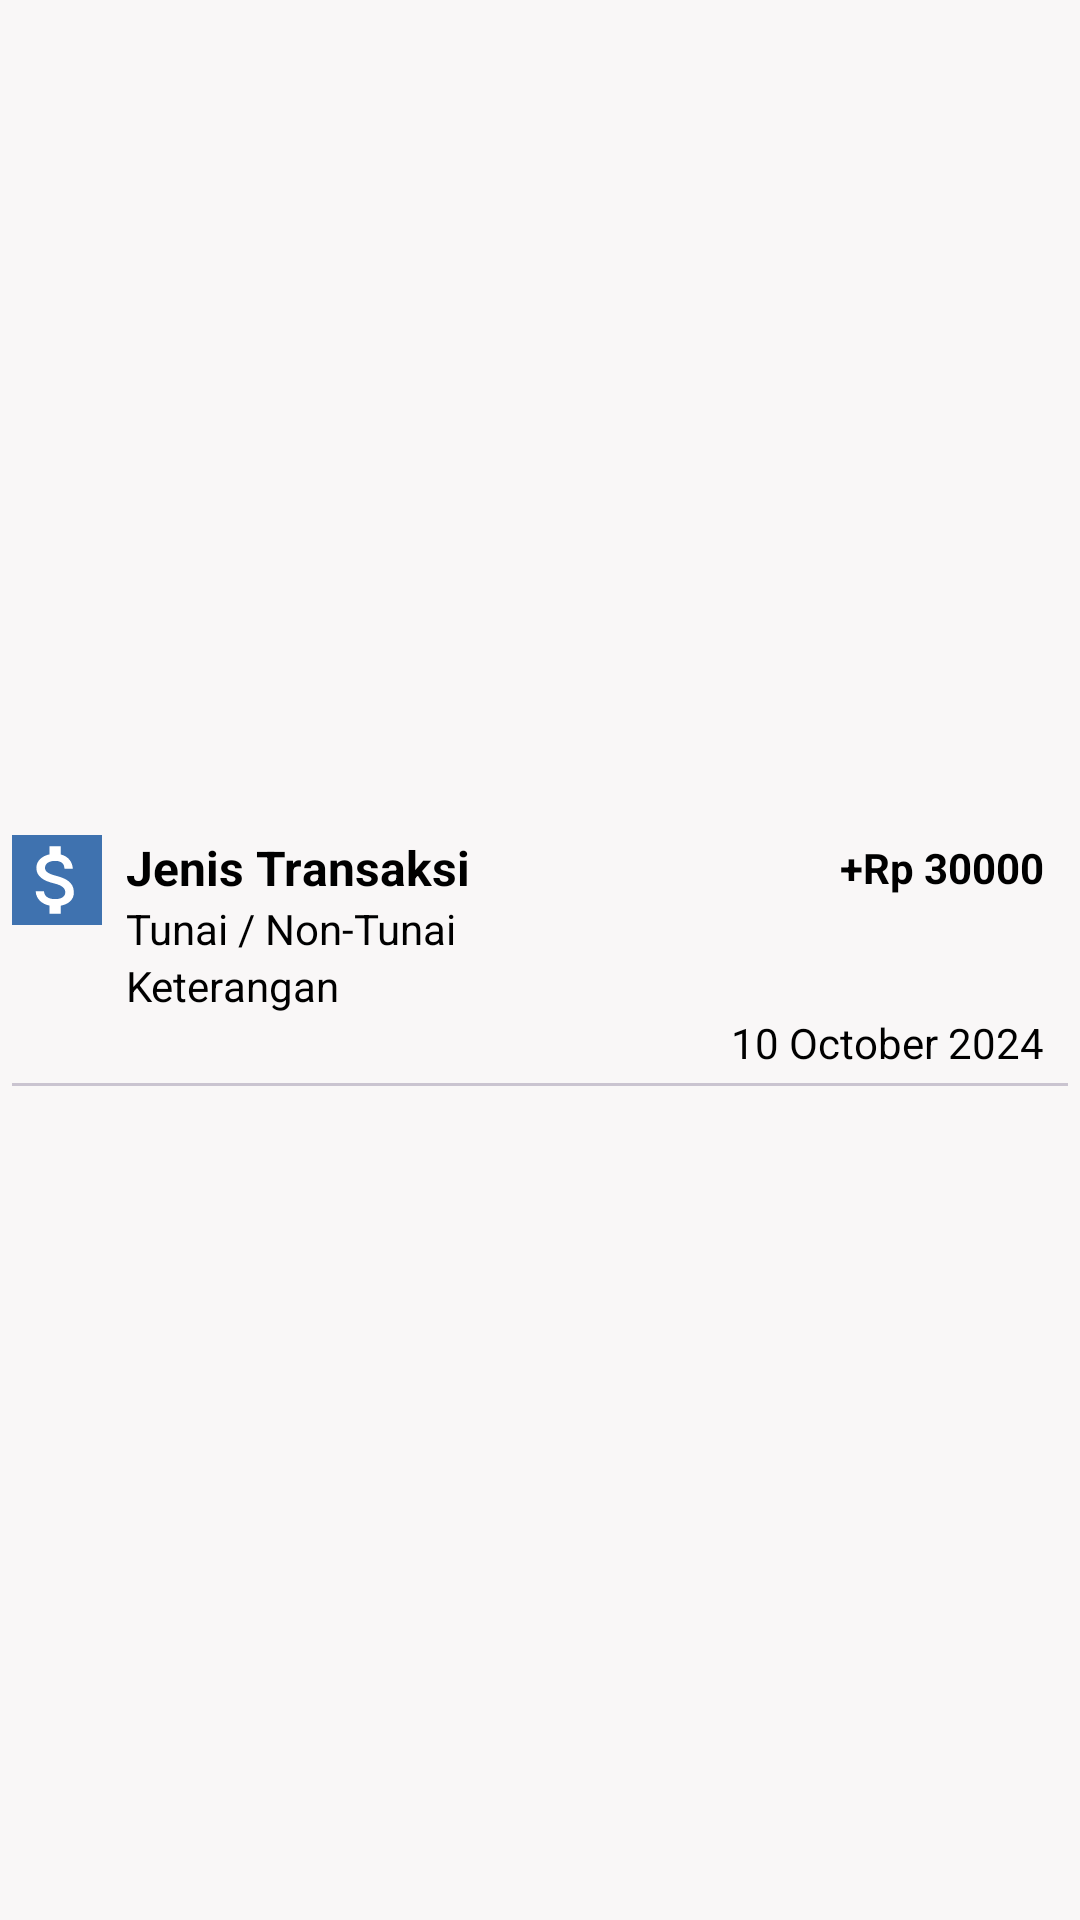

Icon click points for this 1080px×1920px phone screenshot, format (x=x, y=y):
attach money: (x=57, y=880)
